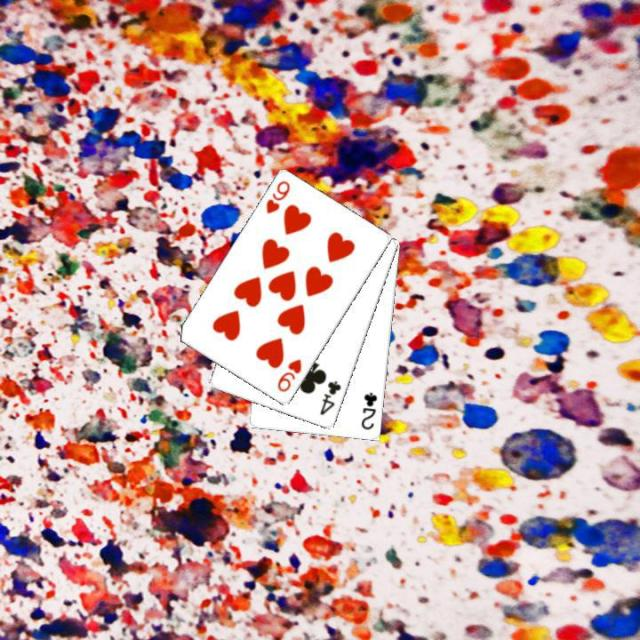2C: (358, 388, 380, 432)
4C: (317, 377, 343, 417)
9H: (273, 356, 304, 394), (262, 177, 292, 216)
